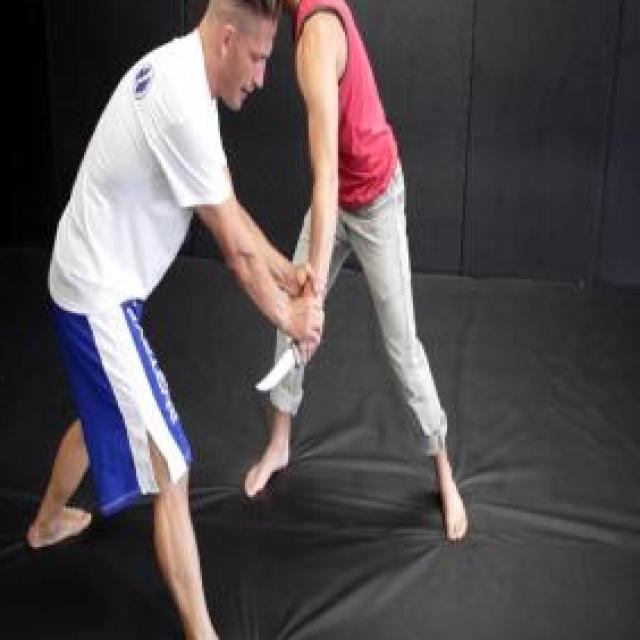knife: (251, 329, 327, 395)
